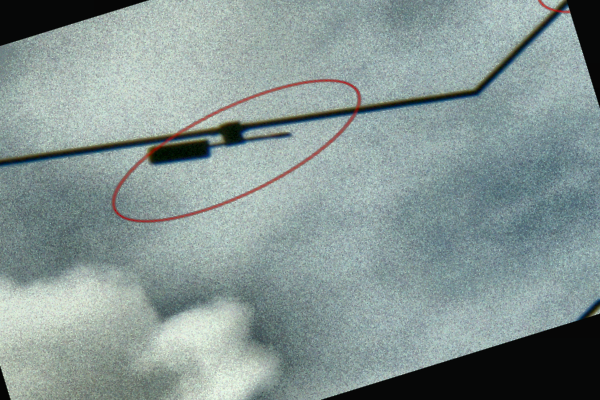damper_defect: (144, 121, 294, 166)
